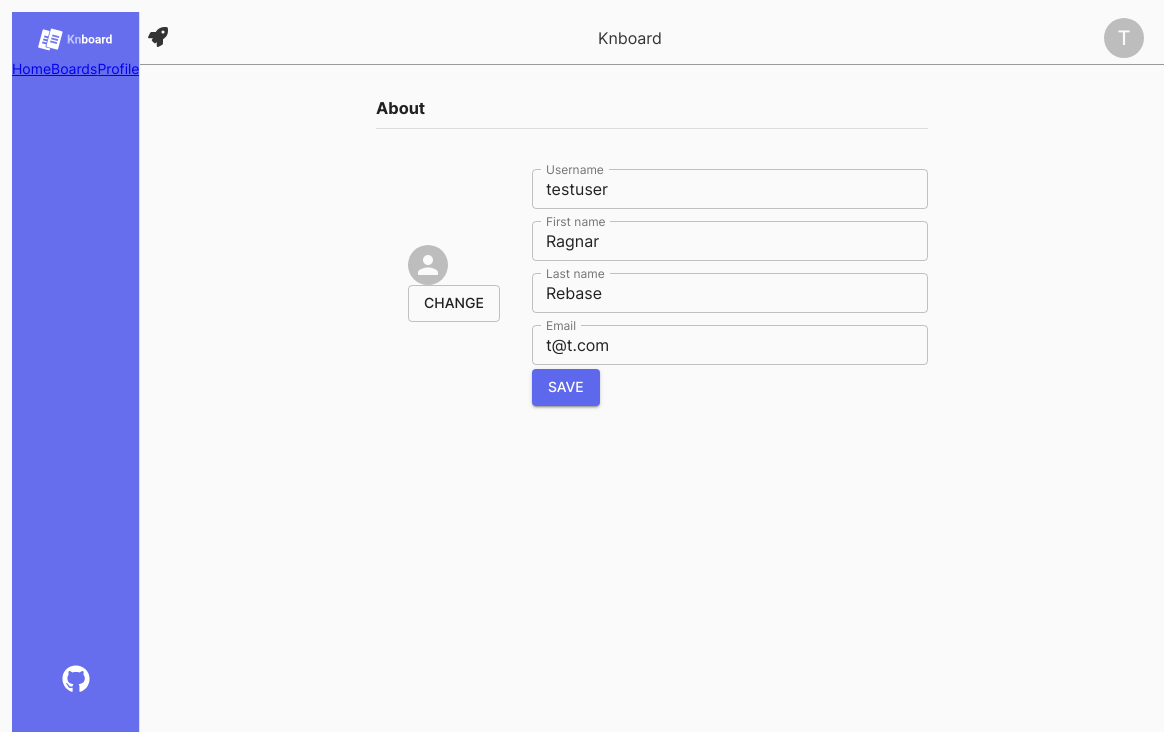
Profile › should clear name fiels and update email
Clear the field labelled "First name": x=730, y=241 left=532, top=221, right=928, bottom=261
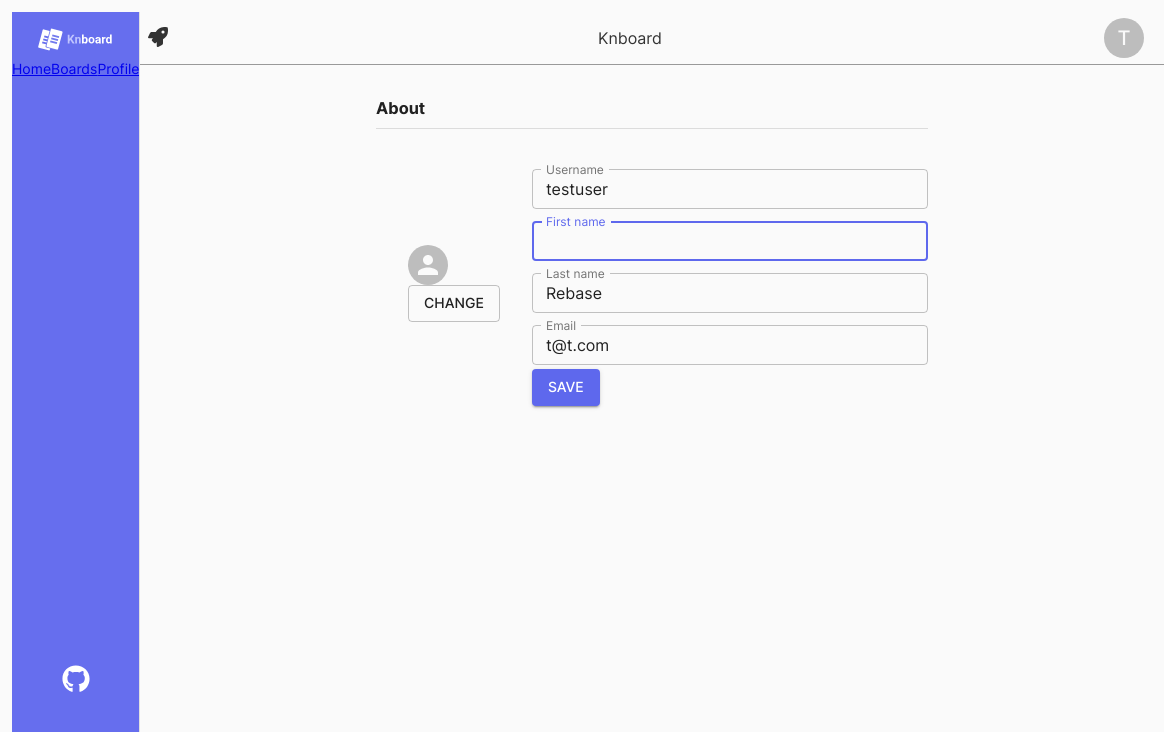
Clear the field labelled "Last name": x=730, y=293 left=532, top=273, right=928, bottom=313
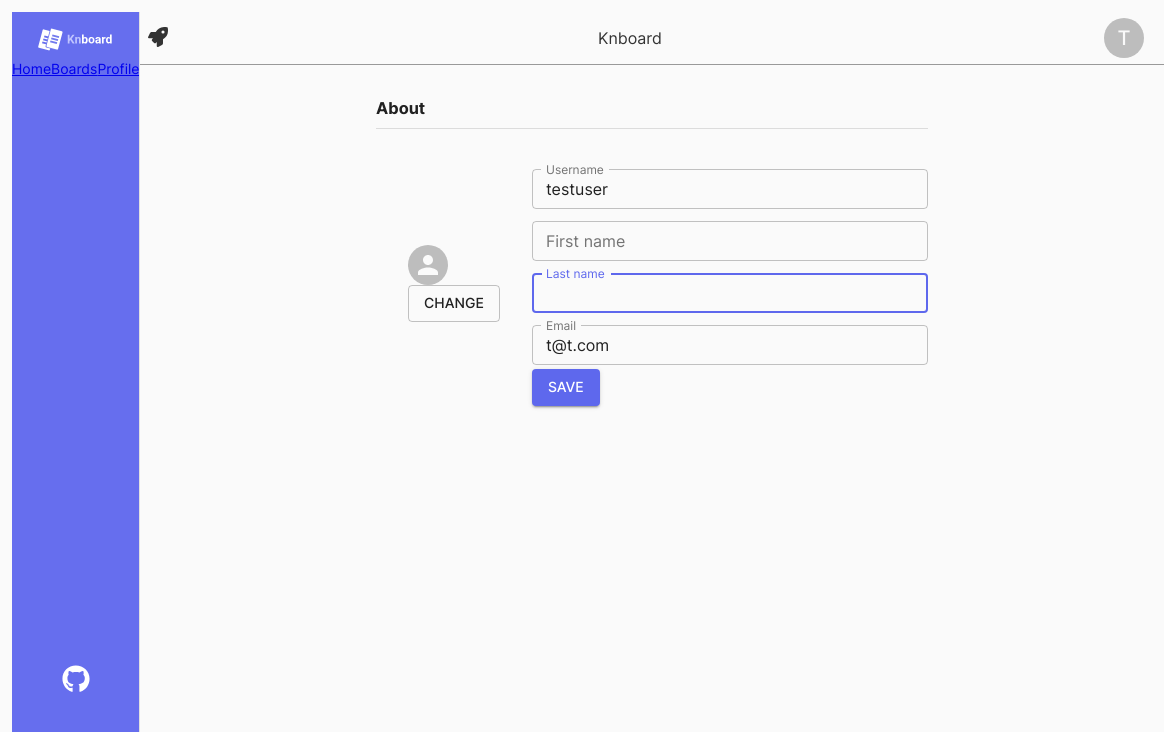
Replace the text in the field labelled "Email" with "newmail@gmail.com": x=730, y=345 left=532, top=325, right=928, bottom=365
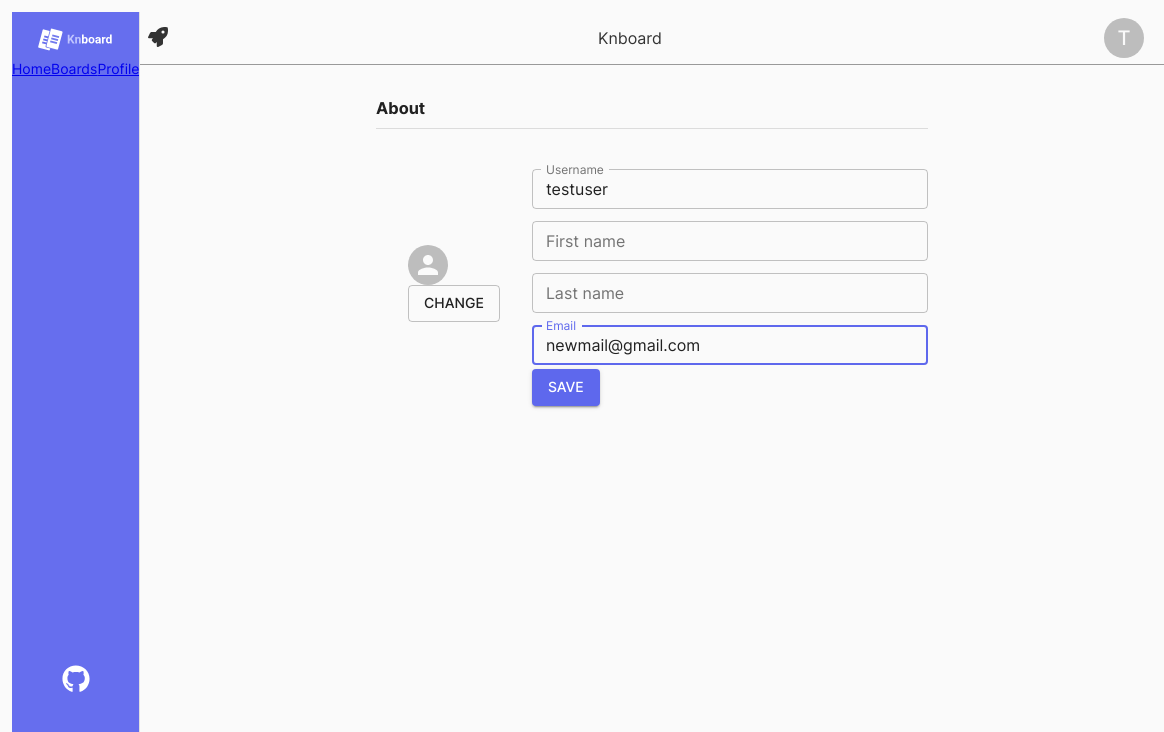
Click the text "Save": x=566, y=388 left=548, top=375, right=584, bottom=400
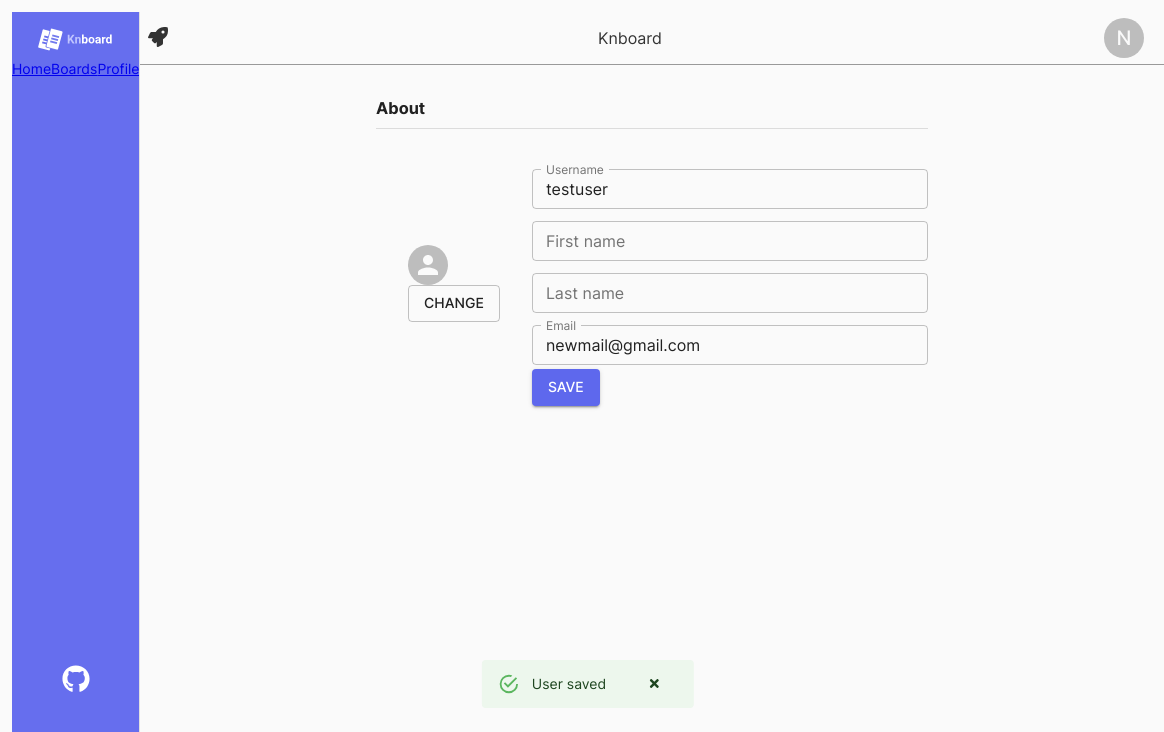
Now the text "User saved" is shown, box left=532, top=675, right=606, bottom=692
